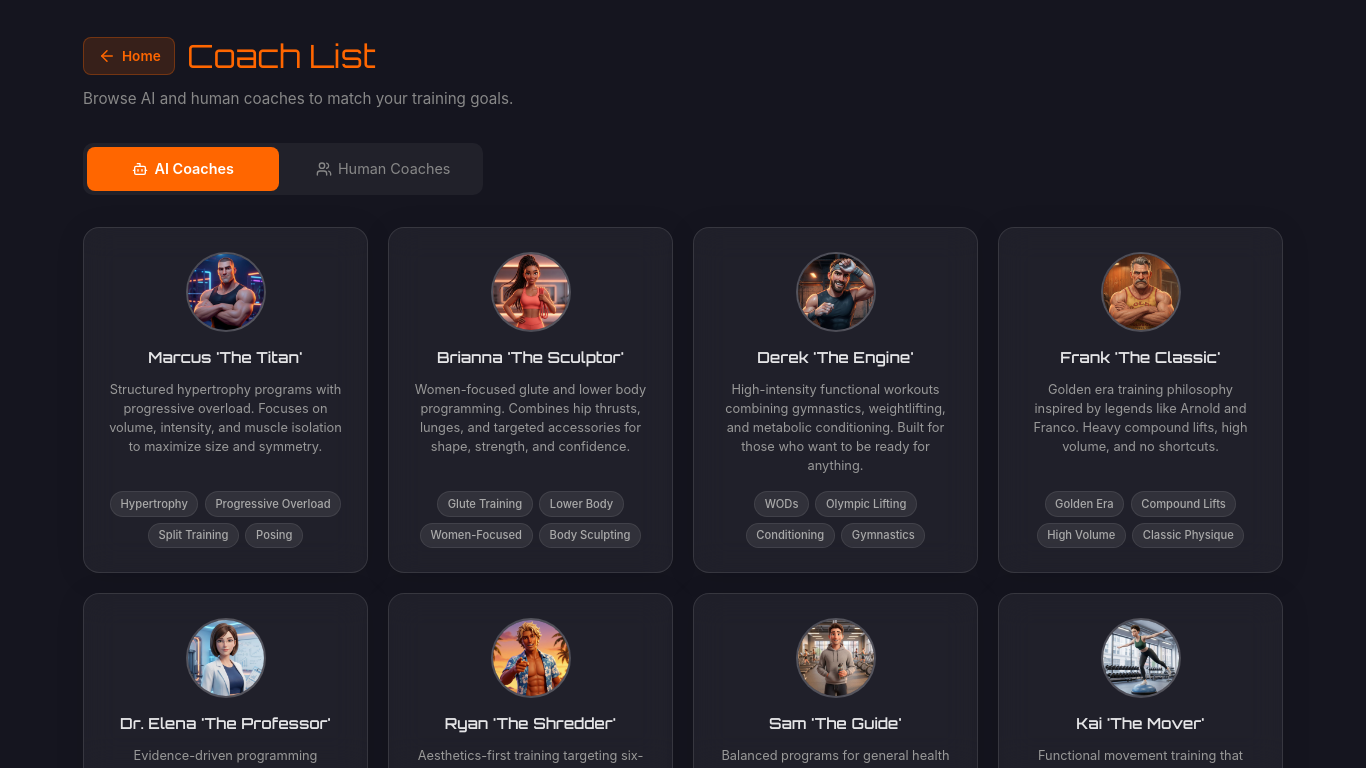
Test case: CoachSelectionPage › shows the CTA bar after selecting a coach
Click the button with test id "coach-card-bodybuilding".
click(226, 400)  # box [83,227,368,573]
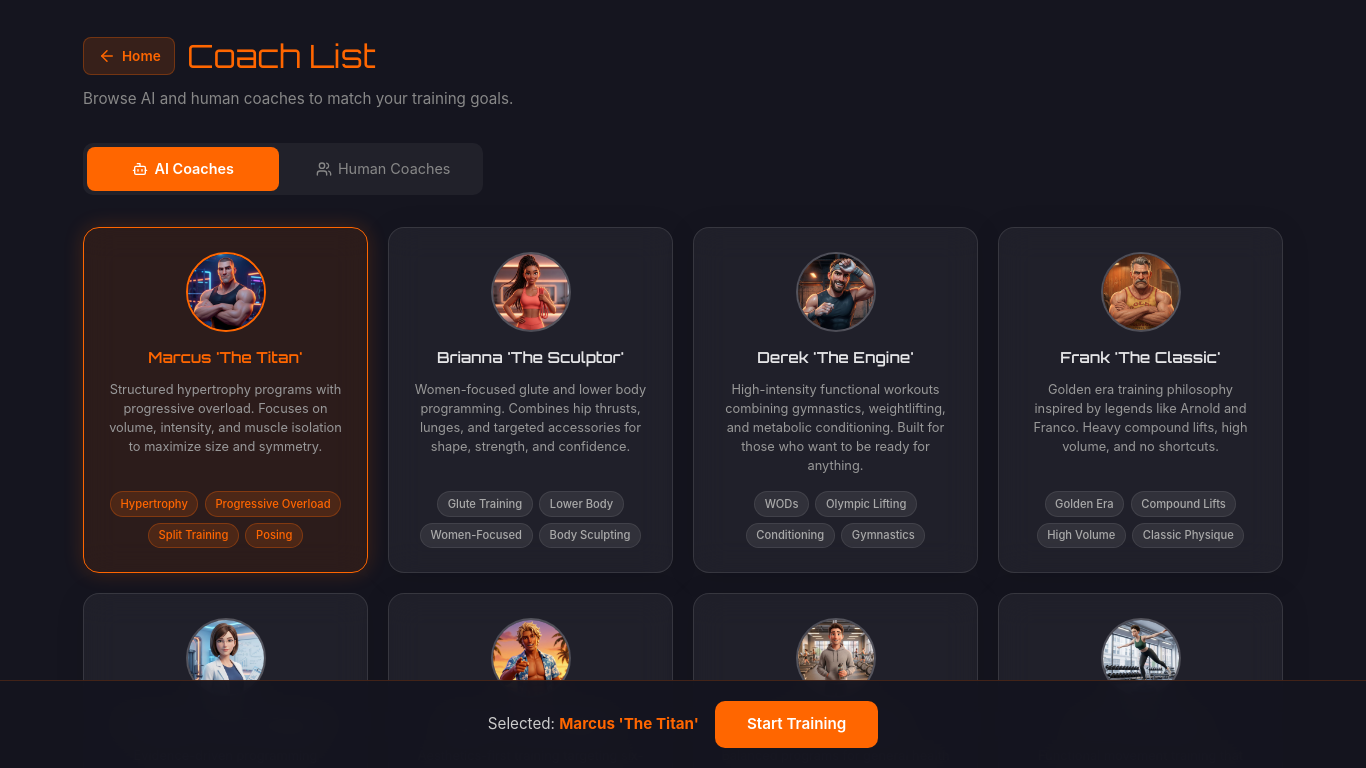
Expected: the element with test id "selected-coach-cta" is shown, [0,680,1365,767]
Expected: the text "Marcus 'The Titan'" is shown, [559,714,699,733]
